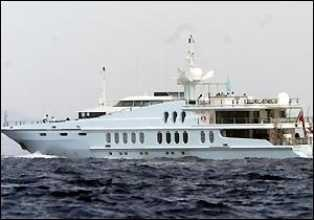yacht: (2, 45, 313, 158)
